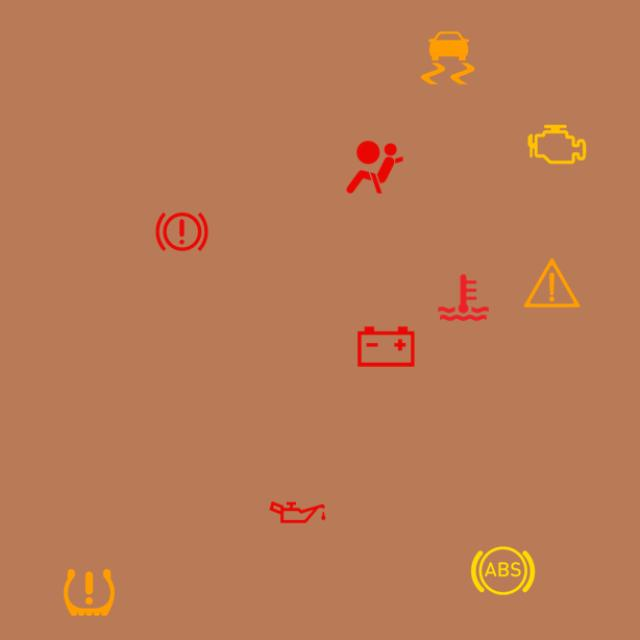Anti Lock Braking System: (468, 536, 538, 606)
Braking System Issue: (147, 197, 217, 267)
Charging System Issue: (351, 312, 421, 382)
Check Engine: (522, 110, 592, 180)
Electronic Stability Problem -ESP-: (412, 23, 482, 93)
Engine Overheating Warning Light: (428, 262, 498, 332)
Low Engine Oil Warning Light: (262, 478, 332, 548)
Low Tire Pressure Warning Light: (54, 558, 124, 628)
Master warning light: (517, 248, 587, 318)
SRS-Airbag: (340, 132, 410, 202)
